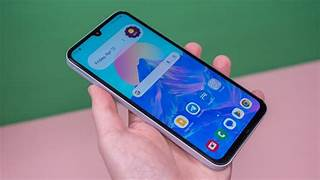samsung: (66, 11, 267, 170)
